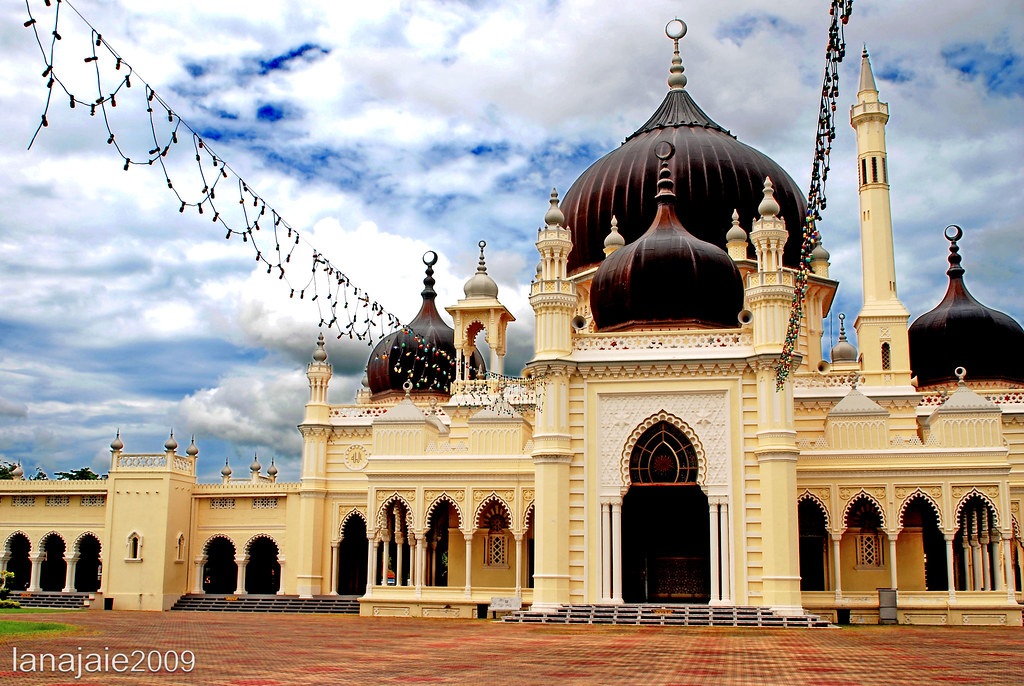Mosque: (59, 14, 1024, 626)
